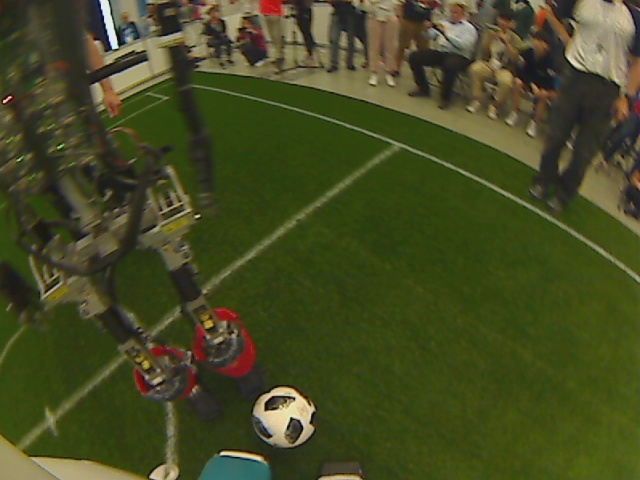ball: (250, 385, 316, 450)
